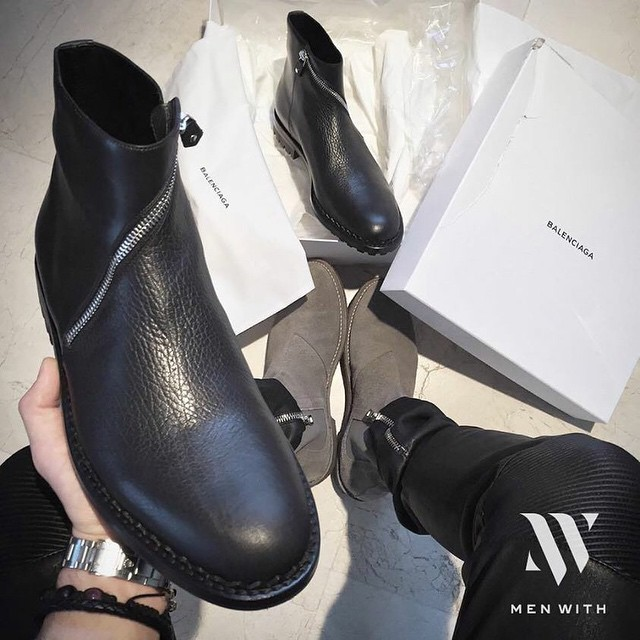sneaker: (328, 259, 433, 532), (255, 242, 359, 502)
